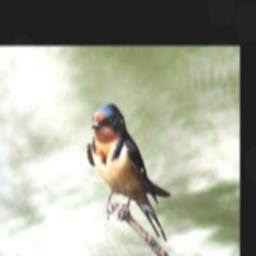Swallow: (85, 102, 168, 243)
